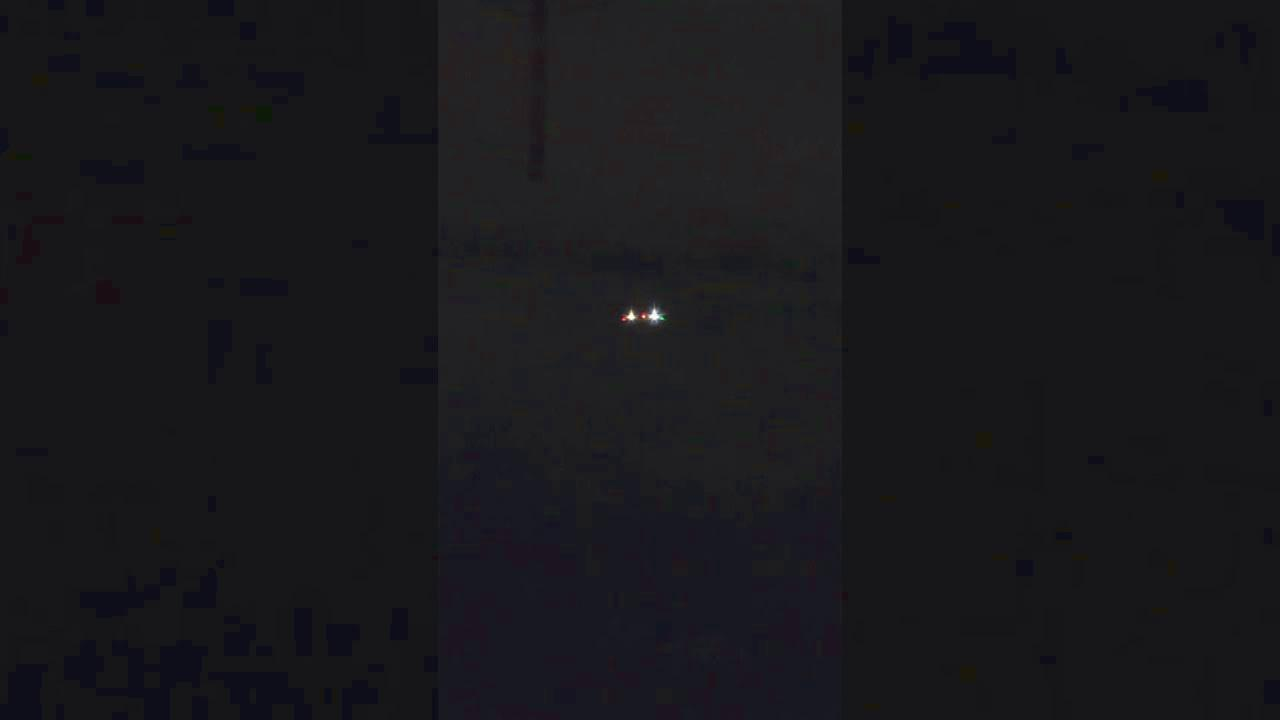Plane: (584, 289, 701, 342)
